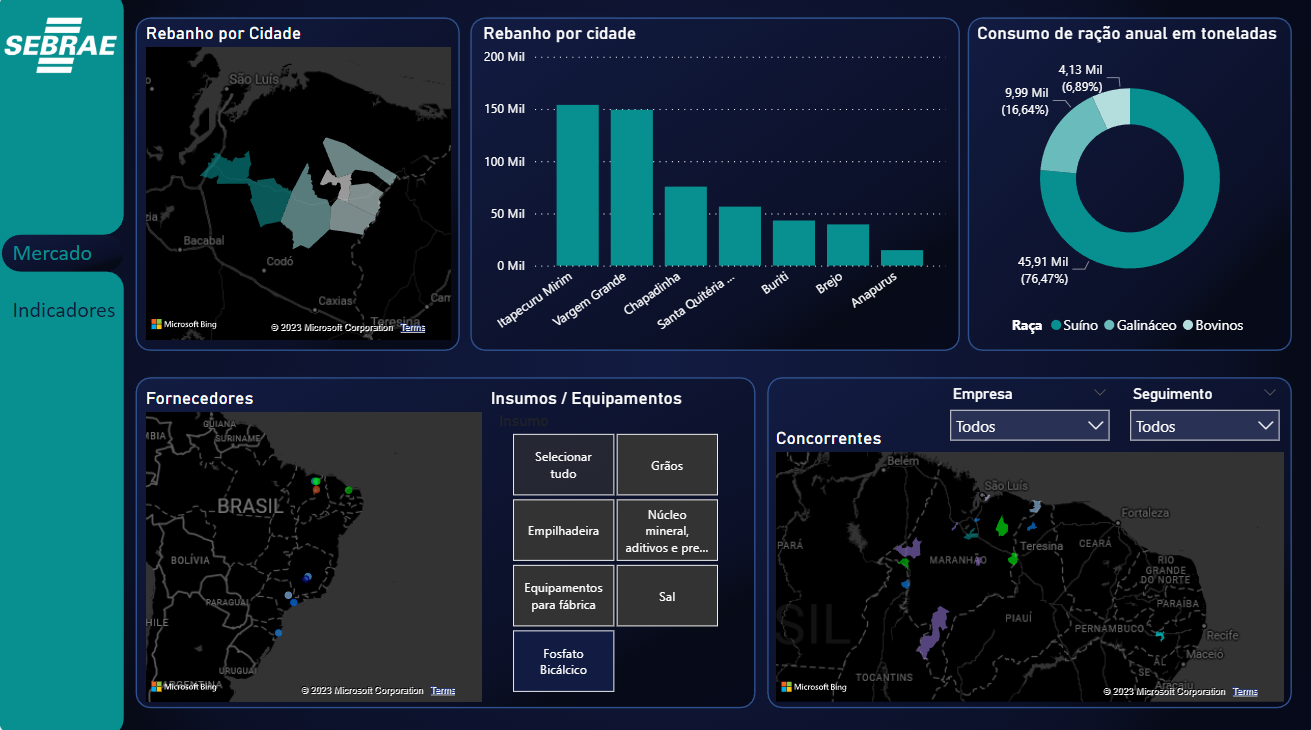

The dashboard page shown, as its layout file describes it:
{"tool":"powerbi","page":{"name":"Estudo de mercado","canvas":[1280,720],"ordinal":0},"visuals":[{"type":"filledMap","fields":{"Category":["Mercado potencial.Cidade"]},"box":[143.2,31.7,304.3,310.8],"z":0},{"type":"clusteredColumnChart","title":"Rebanho por cidade","fields":{"Category":["Mercado potencial.Cidade"],"Y":["Sum(Mercado potencial.Quantidade)"]},"box":[468.6,31.7,456.4,310.8],"z":1000},{"type":"donutChart","title":"Consumo de ração anual em toneladas","fields":{"Category":["Mercado potencial.Tipo"],"Y":["Sum(Mercado potencial.Ração anual)"]},"box":[945.4,31.7,305.1,310.8],"z":2000},{"type":"filledMap","title":"Concorrentes","fields":{"Category":["Concorrentes.Cidade"],"Series":["Concorrentes.Empresa"]},"box":[750.9,422.2,499.5,270.1],"z":3000},{"type":"map","title":"Fornecedores","fields":{"Category":["Fornecedores.Cidade"],"Series":["Fornecedores.Empresa"]},"box":[143.2,384,333.6,308.3],"z":4000},{"type":"slicer","fields":{"Values":["Concorrentes.Tipo"]},"box":[1087.7,376.7,164.3,69.2],"z":5000},{"type":"slicer","title":"Insumos / Equipamentos","fields":{"Values":["Fornecedores.Insumo"]},"box":[476.7,384,248.1,300.2],"z":6000},{"type":"slicer","fields":{"Values":["Concorrentes.Empresa"]},"box":[913.6,376.7,174.1,69.2],"z":7000},{"type":"actionButton","box":[5.9,290,121.7,40],"z":8000}]}

Visuals, with their boxes on the page's 1280x720 design canvas (x1, y1, x2, y2). These are canvas units, not pixel positions in the 1311x730 screenshot, which may show the page scaled, cropped or inside an application window:
filledMap - Mercado potencial.Cidade: region(143, 32, 448, 342)
"Rebanho por cidade" clusteredColumnChart: region(469, 32, 925, 342)
"Consumo de ração anual em toneladas" donutChart: region(945, 32, 1250, 342)
"Concorrentes" filledMap: region(751, 422, 1250, 692)
"Fornecedores" map: region(143, 384, 477, 692)
slicer - Concorrentes.Tipo: region(1088, 377, 1252, 446)
"Insumos / Equipamentos" slicer: region(477, 384, 725, 684)
slicer - Concorrentes.Empresa: region(914, 377, 1088, 446)
actionButton: region(6, 290, 128, 330)
